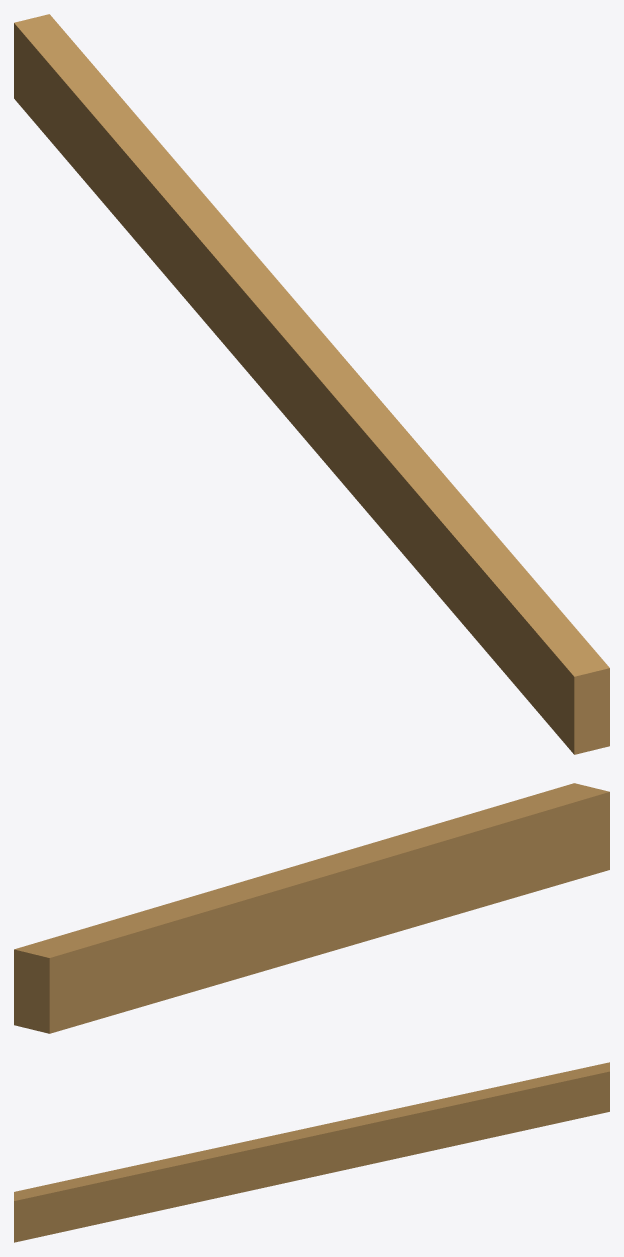
3 renders of one model, top to bottom at view 1: azimuth 30°, elevation 25°; view 2: azimuth 150°, elevation 25°; view 3: azimuth 270°, elevation 25°, orthographic. The views are drawn at different scales.
Parts seen in each view (by area): view 1: L1-3-S2-310-M09; view 2: L1-3-S2-310-M09; view 3: L1-3-S2-310-M09.
Part boxes in pixels (x1,y1,x2,y2): L1-3-S2-310-M09: [14, 14, 609, 754]; L1-3-S2-310-M09: [14, 783, 609, 1033]; L1-3-S2-310-M09: [14, 1062, 609, 1242].
Size of the model in its own units: 0.045 by 0.3886 by 1.23.
